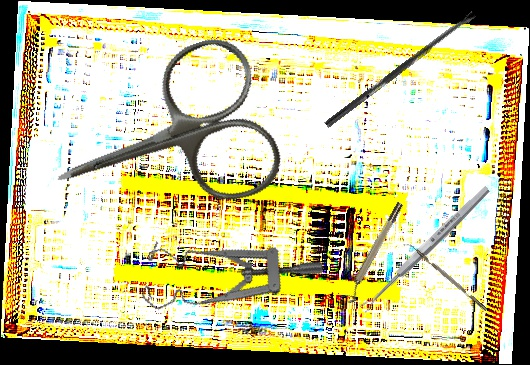Chopper: (402, 239, 488, 315)
Fixation Ring: (340, 200, 409, 306)
Iris Scissors: (30, 29, 290, 254)
Speculum: (132, 207, 326, 357)
Surgical Spoon: (324, 11, 477, 129), (358, 184, 492, 314)
